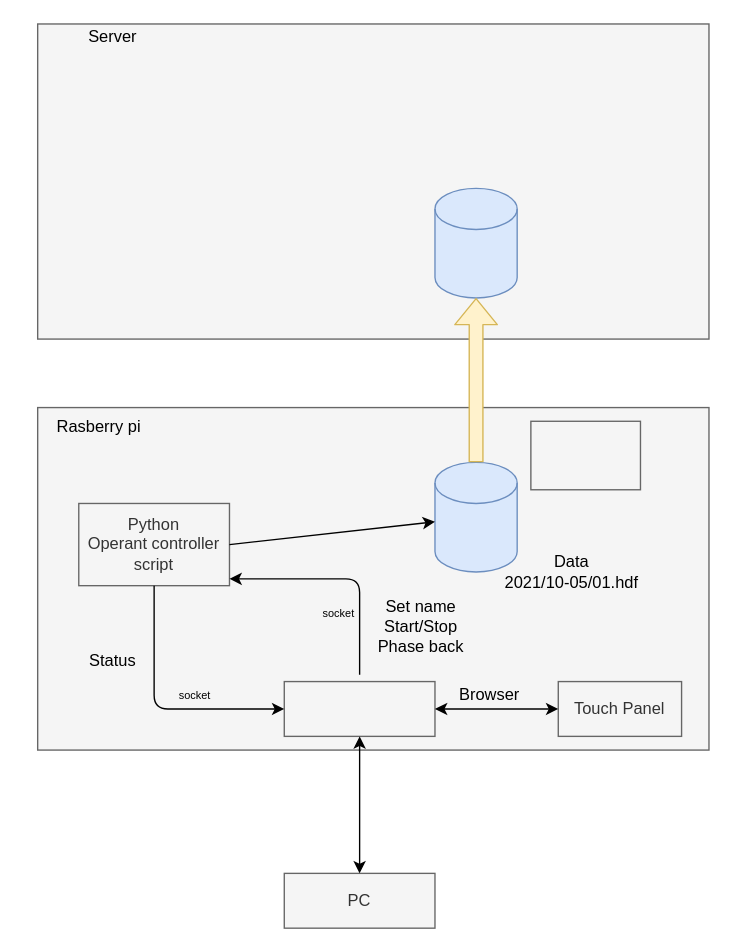
Some shapes in this 733 by 952 pixel diagram are drawn without their labels. Each missing label, with the centre of its shape:
Python Transfer script: (x=585, y=455)
Web app (python) server: (x=359, y=708)
